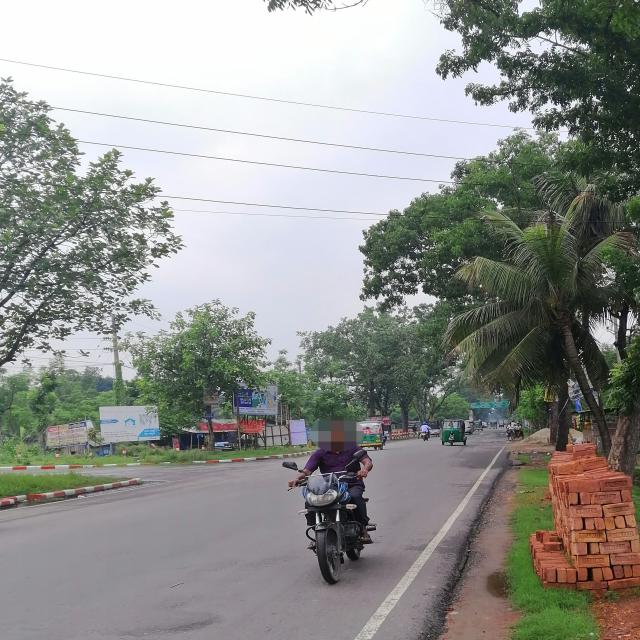Motorbike: (280, 450, 388, 590)
